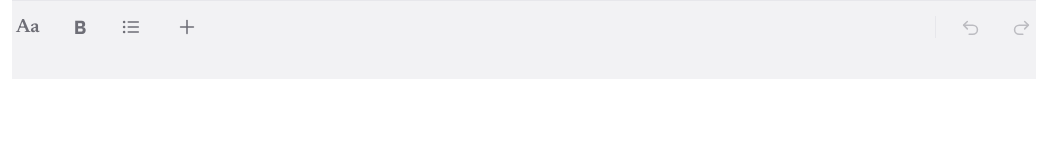
Scenario: MobileEditorBar — sub-row open/close/swap › tapping Style opens its sub-row above with the style controls + accents the group
Press the mouse on the button with aria-label "Style": coordinates (28, 27) x1=12 y1=14 x2=44 y2=40
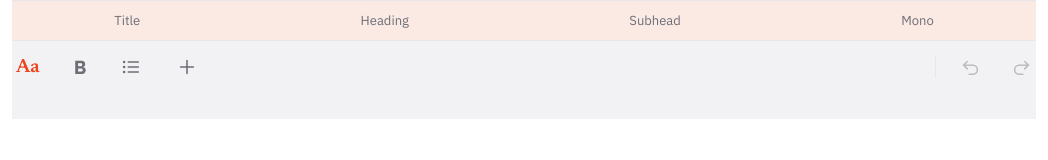
Check: the button labelled "Title" is shown, box x1=110 y1=10 x2=144 y2=31
Check: the button labelled "Heading" is shown, box x1=357 y1=10 x2=413 y2=31
Check: the button labelled "Subhead" is shown, box x1=625 y1=10 x2=685 y2=31
